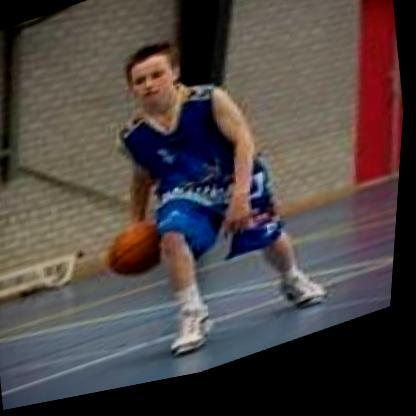basketball: (101, 200, 183, 300)
